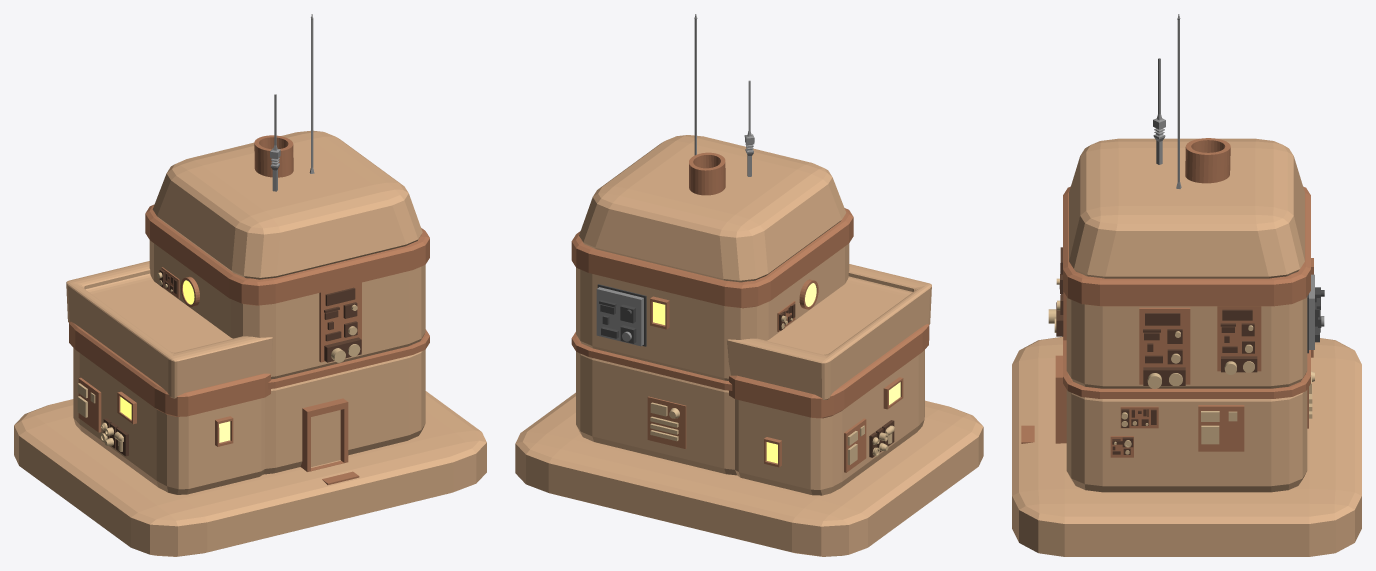
File: nomad_building_32.fbx
3 views of the same model, side by side, from view 1: azimuth 30°, elevation 25°; view 2: azimuth 150°, elevation 25°; view 3: azimuth 270°, elevation 25° (orthographic). The views are drawn at different scales.
Visible parts, largest first — view 1: B32_M_Foundation_rectangular, B32_M_R10_square_roof_defualt, B32_M_R01_roof_simple, B32_M_Blk01_rectangular_unit, B32_M_Blk10_base, B32_M_Blk00_base, B32_M_B10_Band_square_diameter_thich, B32_M_B01_Band_square_diameter_thich, B32_M_B00_Band_square_diameter_default, B32_M_Door_Door_Frame, B32_M_Door_Door_Leaf, B32_M_Panel0_MeterBox_Face002 (+2 smaller); view 2: B32_M_Foundation_rectangular, B32_M_R10_square_roof_defualt, B32_M_R01_roof_simple, B32_M_Blk01_rectangular_unit, B32_M_Blk10_base, B32_M_Blk00_base, B32_M_B10_Band_square_diameter_thich, B32_M_B01_Band_square_diameter_thich, B32_M_B00_Band_square_diameter_default, B32_M_Panel8_MeterBox_Face001, B32_M_Stack0_TowerBody_StackWide, B32_M_Panel2_PanelBox_Body001 (+1 smaller); view 3: B32_M_Foundation_rectangular, B32_M_R10_square_roof_defualt, B32_M_Blk00_base, B32_M_Blk10_base, B32_M_B10_Band_square_diameter_thich, B32_M_B00_Band_square_diameter_default, B32_M_Panel4_MeterBox_Face002, B32_M_Stack0_TowerBody_StackWide, B32_M_Panel3_PanelBox_Body, B32_M_Panel7_MeterBox_Face002, B32_M_Door_Door_Frame, B32_M_Mast1_AntennaMast_Bulky (+4 smaller).
Boxes of the visible parts, x1,y1,x2,y2 form: B32_M_Foundation_rectangular: (14, 391, 486, 556); B32_M_R10_square_roof_defualt: (152, 130, 422, 279); B32_M_R01_roof_simple: (66, 261, 272, 398); B32_M_Blk01_rectangular_unit: (73, 348, 264, 494); B32_M_Blk10_base: (149, 240, 425, 379); B32_M_Blk00_base: (263, 350, 425, 474); B32_M_B10_Band_square_diameter_thich: (145, 204, 429, 305); B32_M_B01_Band_square_diameter_thich: (69, 321, 270, 416); B32_M_B00_Band_square_diameter_default: (268, 329, 429, 389); B32_M_Door_Door_Frame: (300, 398, 348, 471); B32_M_Door_Door_Leaf: (311, 410, 340, 467); B32_M_Panel0_MeterBox_Face002: (319, 282, 361, 362); B32_M_Foundation_rectangular: (515, 392, 983, 556); B32_M_R10_square_roof_defualt: (579, 135, 846, 282); B32_M_R01_roof_simple: (727, 264, 931, 399); B32_M_Blk01_rectangular_unit: (735, 350, 924, 495); B32_M_Blk10_base: (576, 243, 849, 380); B32_M_Blk00_base: (576, 352, 736, 475); B32_M_B10_Band_square_diameter_thich: (571, 208, 853, 308); B32_M_B01_Band_square_diameter_thich: (729, 324, 929, 418); B32_M_B00_Band_square_diameter_default: (571, 332, 732, 390); B32_M_Panel8_MeterBox_Face001: (596, 287, 643, 346); B32_M_Stack0_TowerBody_StackWide: (689, 152, 725, 195); B32_M_Panel2_PanelBox_Body001: (647, 396, 686, 448); B32_M_Foundation_rectangular: (1012, 336, 1361, 556); B32_M_R10_square_roof_defualt: (1069, 138, 1304, 278); B32_M_Blk00_base: (1066, 390, 1307, 492); B32_M_Blk10_base: (1066, 297, 1307, 388); B32_M_B10_Band_square_diameter_thich: (1063, 186, 1310, 306); B32_M_B00_Band_square_diameter_default: (1063, 337, 1310, 398); B32_M_Panel4_MeterBox_Face002: (1139, 307, 1190, 384); B32_M_Stack0_TowerBody_StackWide: (1185, 138, 1230, 183); B32_M_Panel3_PanelBox_Body: (1198, 405, 1244, 451); B32_M_Panel7_MeterBox_Face002: (1217, 306, 1261, 371); B32_M_Door_Door_Frame: (1055, 355, 1066, 443); B32_M_Mast1_AntennaMast_Bulky: (1153, 58, 1165, 164).
Size of the model in its own units: 386 by 468 by 305.
